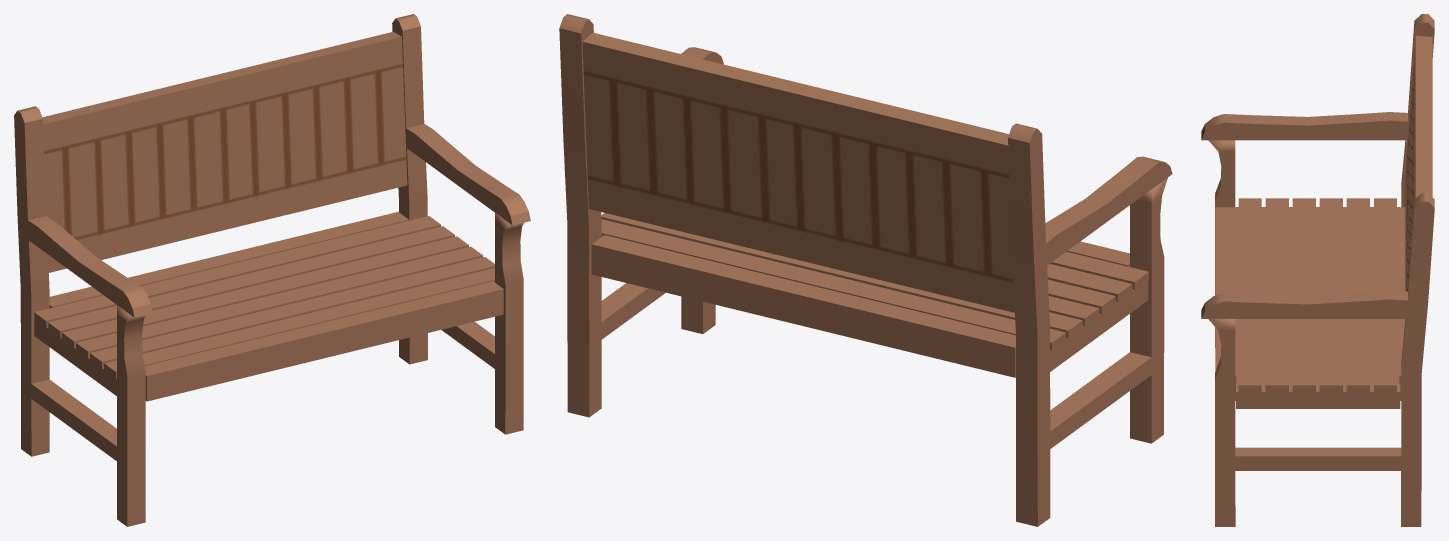
The model's file is T_bench01.fbx.
The picture shows the model from 3 angles, left to right: view 1: azimuth 30°, elevation 25°; view 2: azimuth 150°, elevation 25°; view 3: azimuth 270°, elevation 25°; orthographic projection. The views are drawn at different scales.
Parts seen in each view (by area): view 1: bench01; view 2: bench01; view 3: bench01.
Boxes of the visible parts, x1=… form: bench01: x1=14, y1=14, x2=530, y2=526; bench01: x1=559, y1=14, x2=1172, y2=526; bench01: x1=1201, y1=14, x2=1434, y2=526.
Bounding box in the file's own units: 0.7867 × 0.6367 × 0.4143.
1 material, 1 textured.
